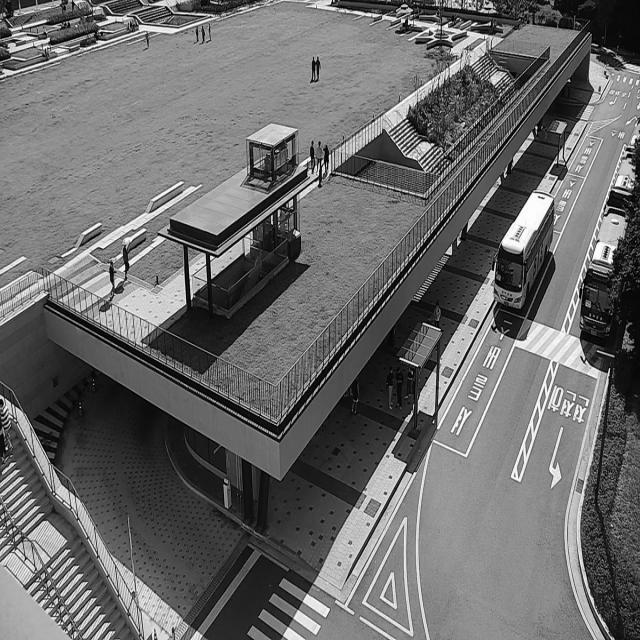queue: (392, 301, 440, 415)
